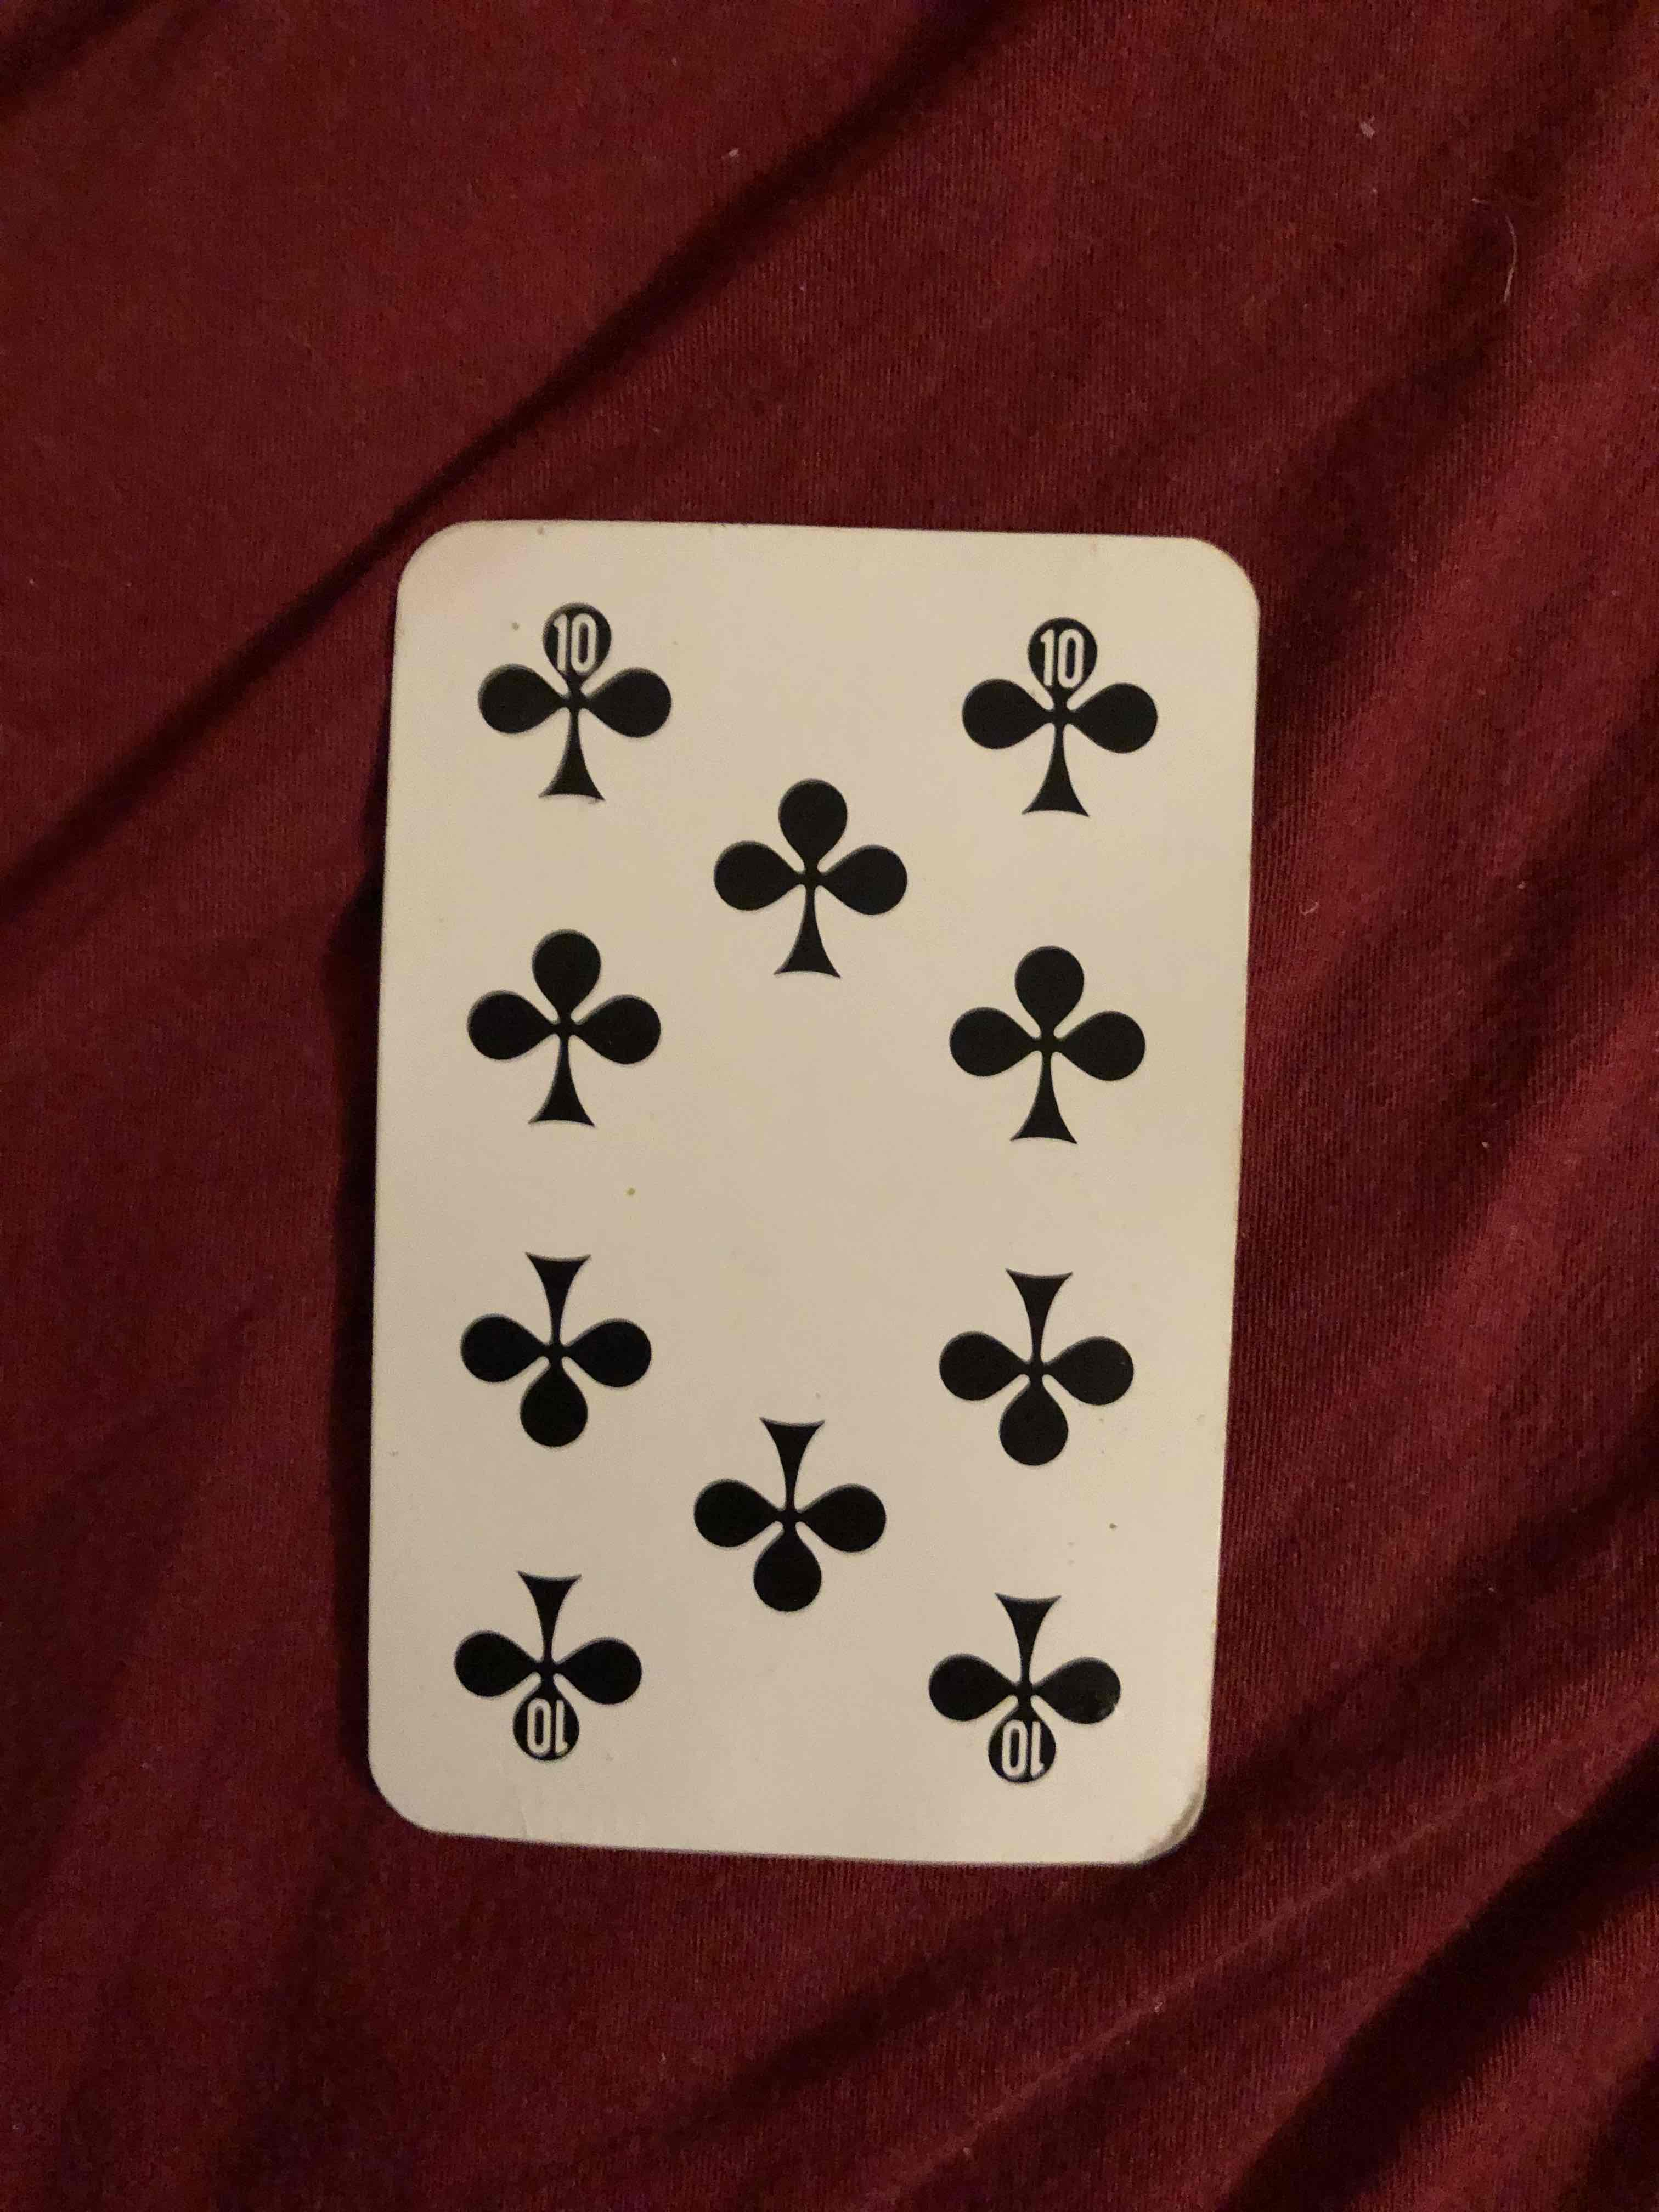clubs10: (415, 523, 1218, 1855)
